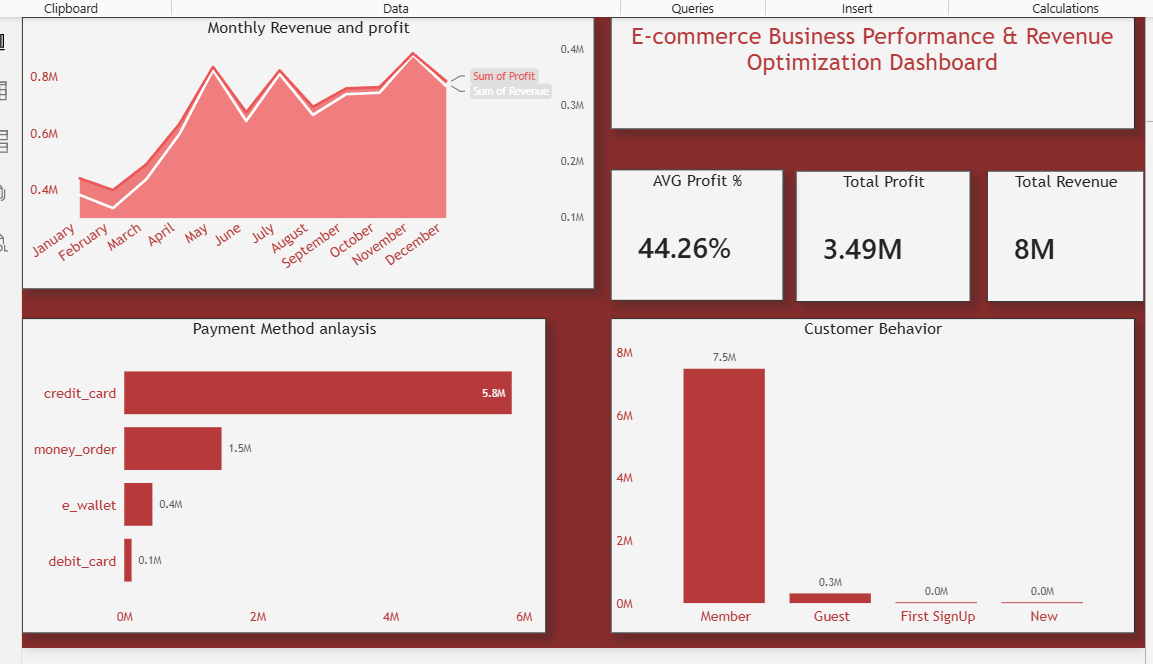

This screenshot's page, from the dashboard's own definition file:
{"tool":"powerbi","page":{"name":"Page 1","canvas":[1280,720],"ordinal":0},"visuals":[{"type":"cardVisual","title":"Total Revenue","fields":{"Data":["Sum(E-commerce Dataset.Revenue)"]},"box":[1100.4,175.3,179.6,149.7],"z":0},{"type":"cardVisual","title":"Total Profit","fields":{"Data":["Sum(E-commerce Dataset.Profit)"]},"box":[882.3,175.3,199.6,149.7],"z":1},{"type":"cardVisual","title":"AVG Profit %","fields":{"Data":["Avg(E-commerce Dataset.Profit%)"]},"box":[671.4,173.9,196.7,149.7],"z":2},{"type":"lineChart","title":"Monthly Revenue and profit","fields":{"Category":["E-commerce Dataset.Order_date.Variation.Date Hierarchy.Month"],"Y":["Sum(E-commerce Dataset.Revenue)"],"Y2":["Sum(E-commerce Dataset.Profit)"]},"box":[0,0,652.8,310.7],"z":3},{"type":"clusteredColumnChart","title":"Customer Behavior","fields":{"Category":["E-commerce Dataset.Customer_Login_type"],"Y":["Sum(E-commerce Dataset.Revenue)"]},"box":[671.4,343.5,597.2,359.2],"z":5},{"type":"clusteredBarChart","title":"Payment Method anlaysis","fields":{"Category":["E-commerce Dataset.Payment_method"],"Y":["Sum(E-commerce Dataset.Revenue)"]},"box":[0,343.5,597.2,359.2],"z":6},{"type":"textbox","box":[671.4,0,597.2,128.3],"z":7}]}

Visuals, with their boxes on the page's 1280x720 design canvas (x1, y1, x2, y2). These are canvas units, not pixel positions in the 1153x664 screenshot, which may show the page scaled, cropped or inside an application window:
"Total Revenue" cardVisual: x1=1100 y1=175 x2=1280 y2=325
"Total Profit" cardVisual: x1=882 y1=175 x2=1082 y2=325
"AVG Profit %" cardVisual: x1=671 y1=174 x2=868 y2=324
"Monthly Revenue and profit" lineChart: x1=0 y1=0 x2=653 y2=311
"Customer Behavior" clusteredColumnChart: x1=671 y1=344 x2=1269 y2=703
"Payment Method anlaysis" clusteredBarChart: x1=0 y1=344 x2=597 y2=703
textbox: x1=671 y1=0 x2=1269 y2=128
